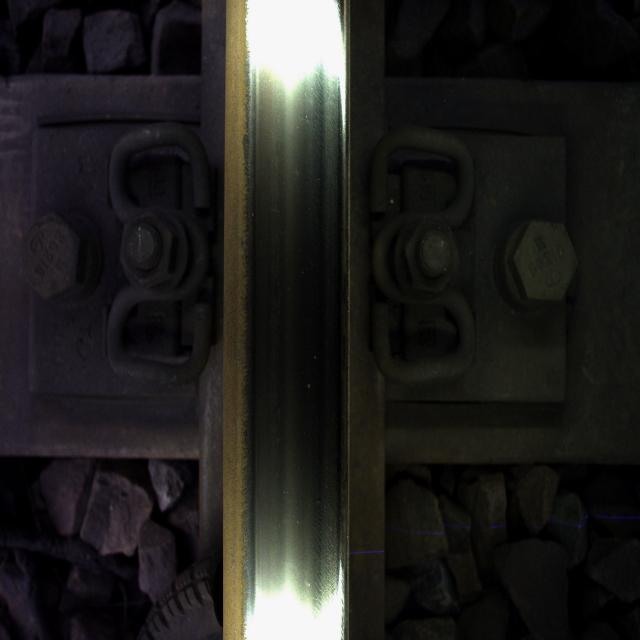break: (250, 61, 335, 544)
